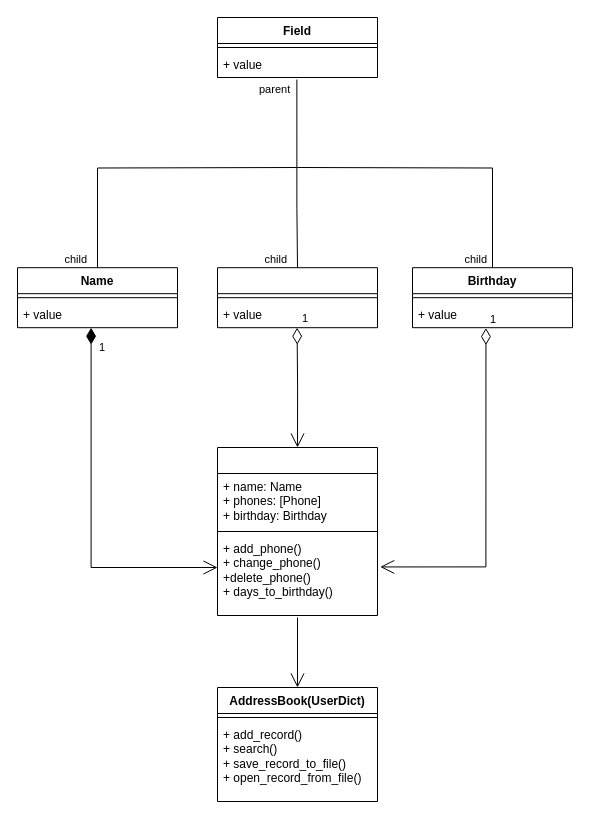
Image size: 595x822. Some labels were removed from this diagram. The shapes that lost their labels are listed below. From the top down, each one's box as (x1, y1, x2, y2) in pixels, then its label:
(216, 267, 378, 328): Phone
(216, 446, 378, 616): Record
